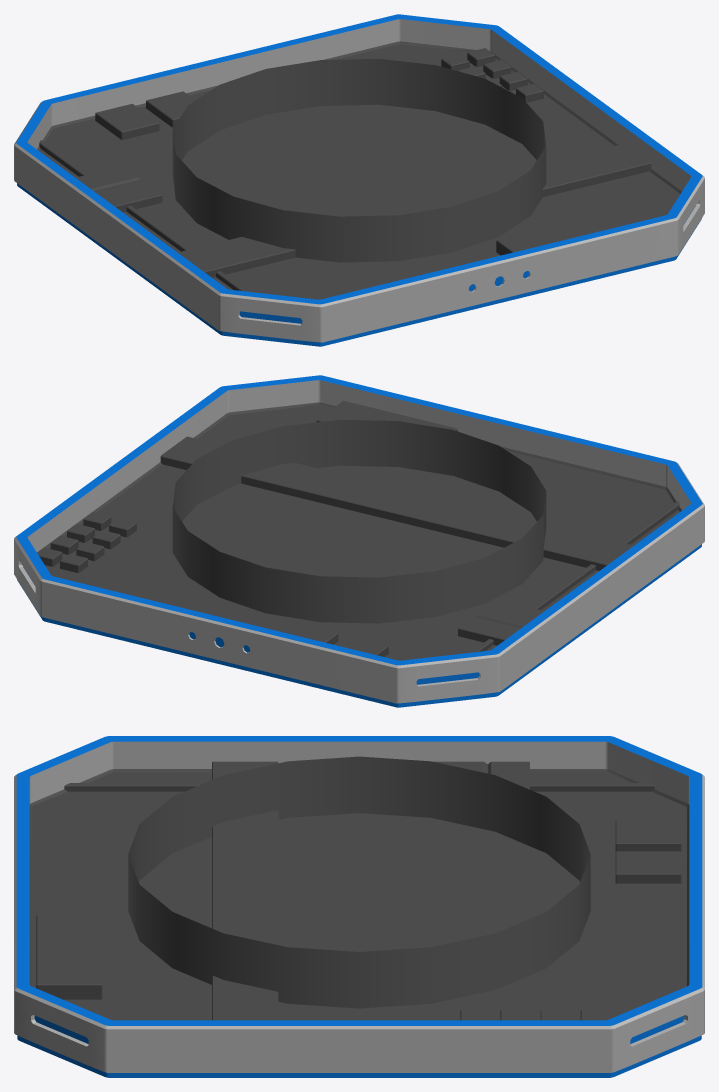
File: Tetris_PlatformA.fbx
3 views of the same model, one above another, from view 1: azimuth 30°, elevation 25°; view 2: azimuth 150°, elevation 25°; view 3: azimuth 270°, elevation 25° (orthographic). The views are drawn at different scales.
Visible parts, largest first — view 1: Tetris_PlatformA; view 2: Tetris_PlatformA; view 3: Tetris_PlatformA.
Boxes of the visible parts, x1,y1,x2,y2 form: Tetris_PlatformA: (14,14,704,346); Tetris_PlatformA: (14,375,704,707); Tetris_PlatformA: (14,736,704,1077).
Bounding box in the file's own units: 92.37 × 12.9 × 92.37.
